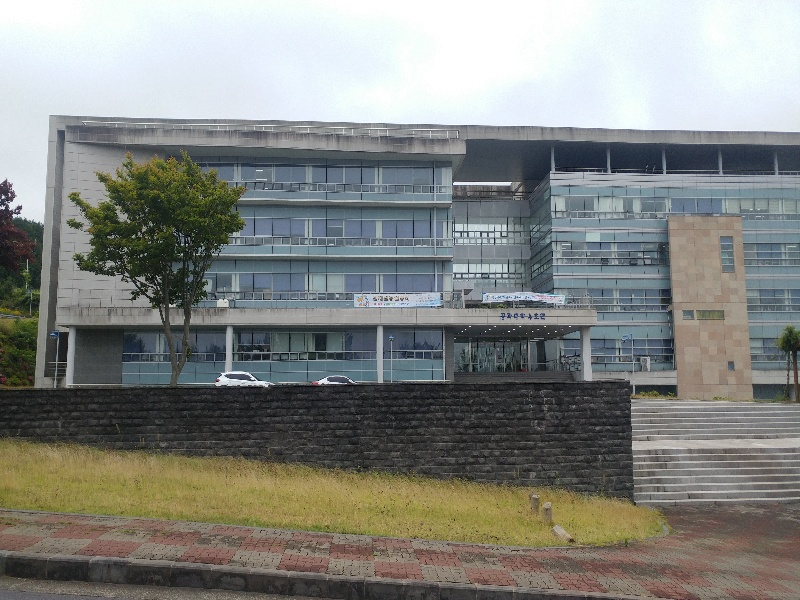Engineering College Building 4: (51, 105, 796, 364), (495, 307, 558, 324)
